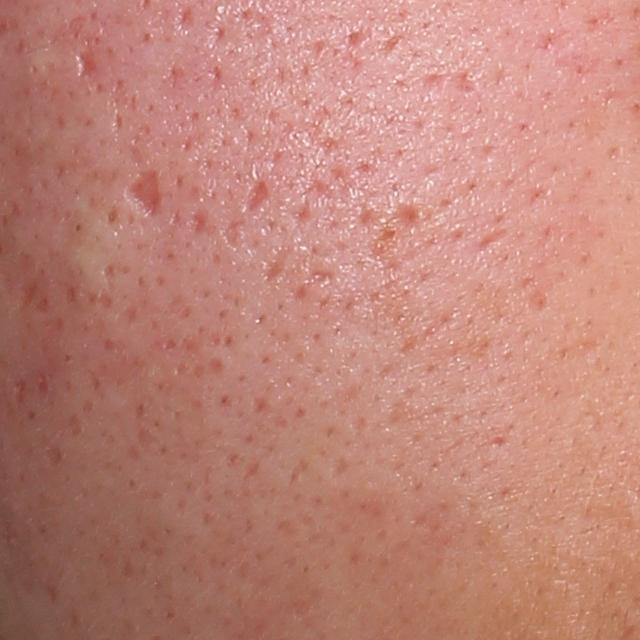atrophic_scar: (126, 166, 164, 219), (294, 266, 339, 300), (387, 199, 426, 234), (241, 177, 272, 218), (262, 245, 292, 286), (456, 69, 479, 101), (75, 47, 97, 79), (173, 5, 192, 36)
